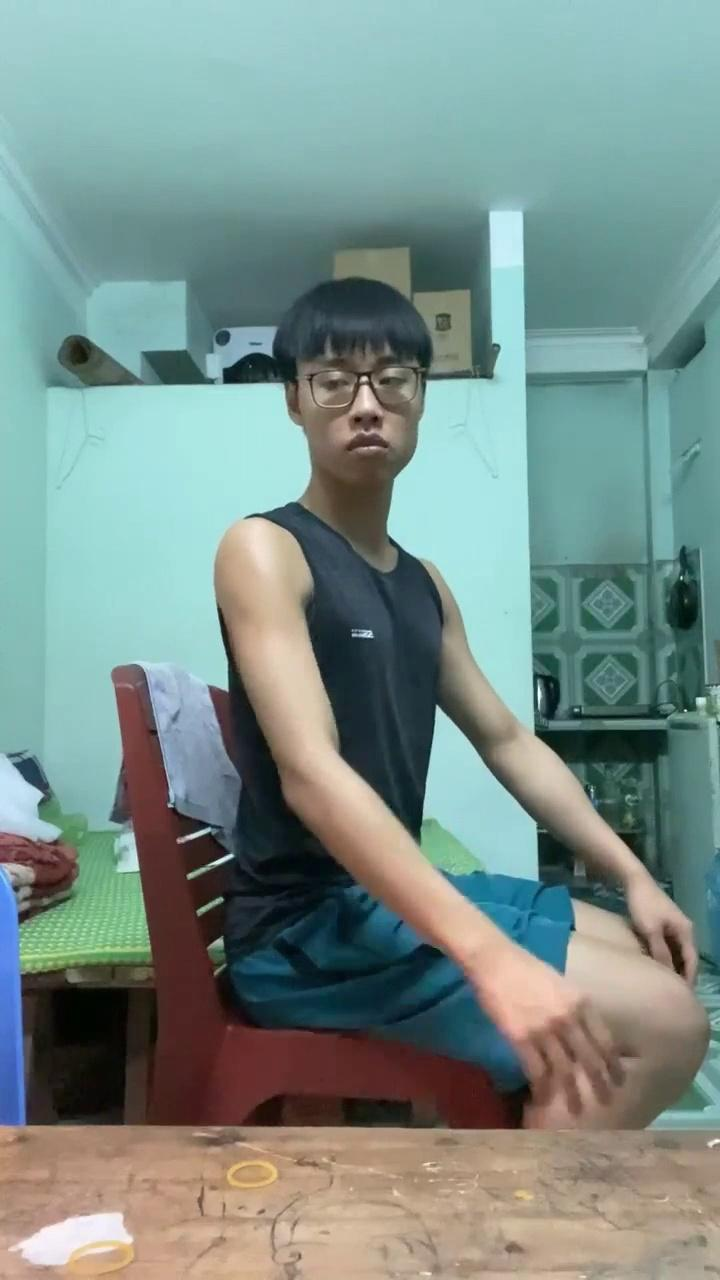GoodPosture: (215, 279, 708, 1128)
